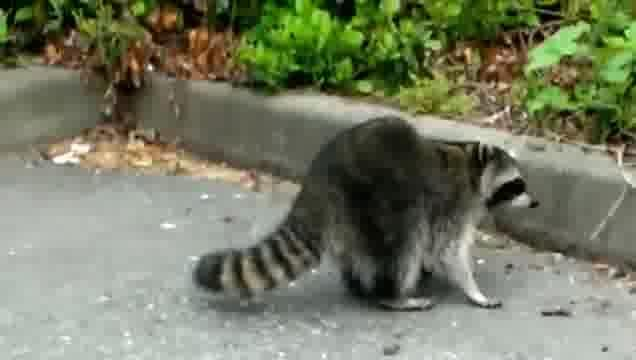raccoon: (190, 114, 544, 312)
